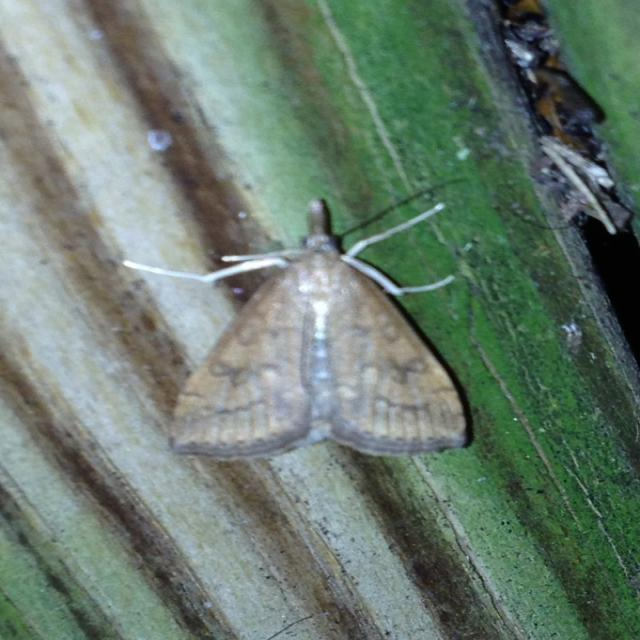cornborer-Adult-: (75, 163, 519, 480)
